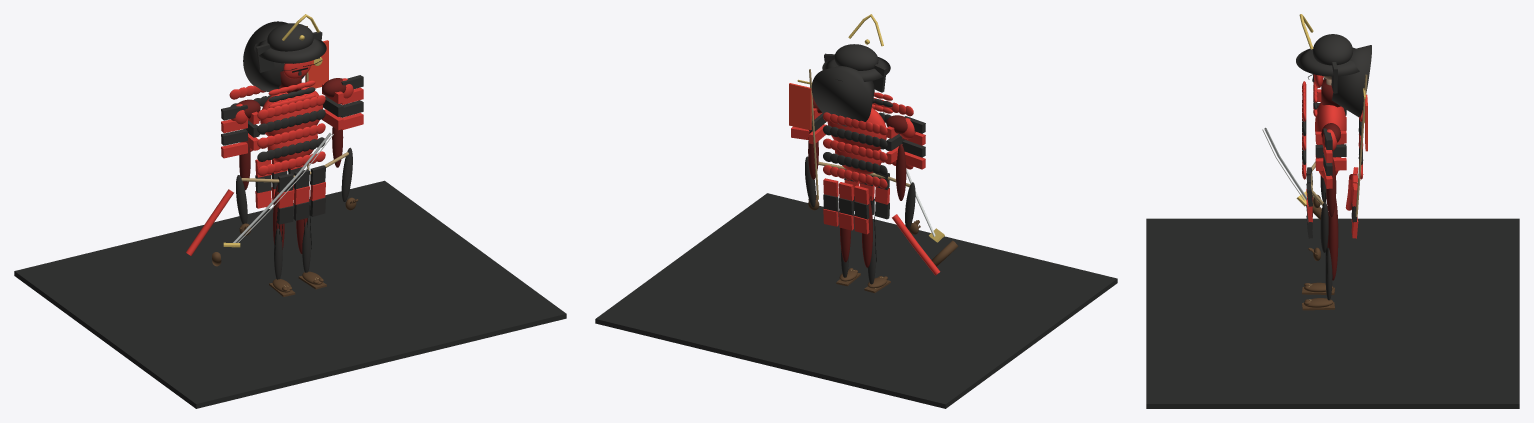
File: samurai_character.glb
The picture shows the model from 3 angles, left to right: view 1: azimuth 30°, elevation 25°; view 2: azimuth 150°, elevation 25°; view 3: azimuth 270°, elevation 25°; orthographic projection. The views are drawn at different scales.
Visible parts, largest first — view 1: matte charcoal inspection plinth, rear shikoro neck guard flare, segmented kabuto helmet bowl, wide kabuto brim, upper do cuirass fitted shell, cloth sashimono banner panel, lacquered saya scabbard at left hip; view 2: matte charcoal inspection plinth, rear shikoro neck guard flare, cloth sashimono banner panel, segmented kabuto helmet bowl, upper do cuirass fitted shell, lacquered saya scabbard at left hip, left armored upper arm; view 3: matte charcoal inspection plinth, rear shikoro neck guard flare, segmented kabuto helmet bowl, wide kabuto brim, upper do cuirass fitted shell, right hakama trouser leg, bamboo sashimono back pole, right kote forearm guard, right armored upper arm.
Boxes of the visible parts, x1,y1,x2,y2 form: matte charcoal inspection plinth: (14, 180, 566, 408); rear shikoro neck guard flare: (243, 21, 304, 91); segmented kabuto helmet bowl: (267, 23, 313, 51); wide kabuto brim: (254, 38, 326, 63); upper do cuirass fitted shell: (260, 87, 322, 136); cloth sashimono banner panel: (305, 40, 328, 88); lacquered saya scabbard at left hip: (186, 189, 233, 255); matte charcoal inspection plinth: (595, 193, 1117, 408); rear shikoro neck guard flare: (811, 66, 874, 127); cloth sashimono banner panel: (789, 83, 811, 130); segmented kabuto helmet bowl: (834, 44, 878, 70); upper do cuirass fitted shell: (827, 107, 886, 150); lacquered saya scabbard at left hip: (892, 214, 940, 275); left armored upper arm: (896, 144, 906, 200); matte charcoal inspection plinth: (1146, 218, 1519, 408); rear shikoro neck guard flare: (1332, 45, 1371, 117); segmented kabuto helmet bowl: (1313, 34, 1352, 65); wide kabuto brim: (1296, 47, 1359, 76); upper do cuirass fitted shell: (1315, 102, 1346, 144); right hakama trouser leg: (1327, 206, 1338, 280); bamboo sashimono back pole: (1355, 74, 1367, 216); right kote forearm guard: (1320, 201, 1328, 252); right armored upper arm: (1326, 158, 1336, 217).
Bounding box in the file's own units: 4 × 3.04 × 3.4.
